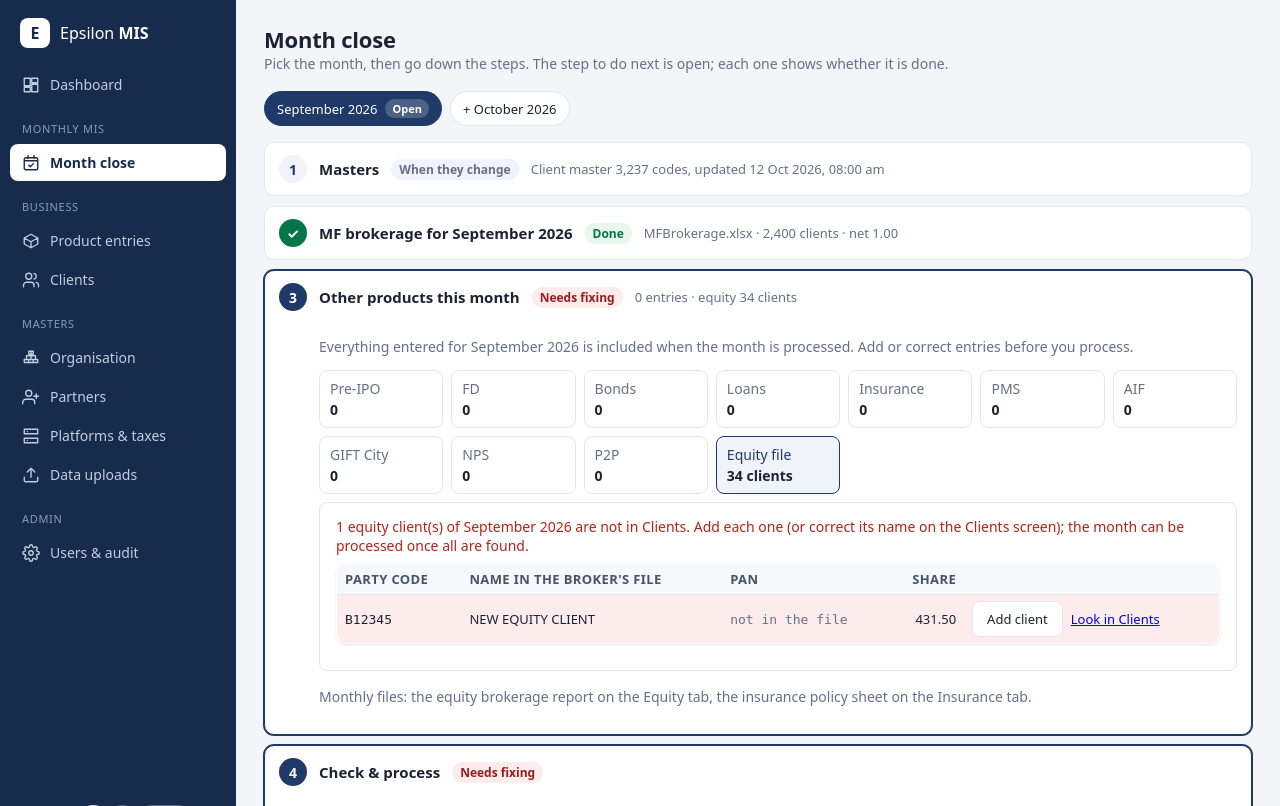
Scenario: this month › names the equity client that is not in Clients and adds it from there
Expected: the text "B12345" is shown, x1=336 y1=594 x2=461 y2=644
Expected: the text "NEW EQUITY CLIENT" is shown, x1=461 y1=594 x2=722 y2=644
Click the button "Add client". click: (1017, 619)
box: x1=972 y1=601 x2=1063 y2=637
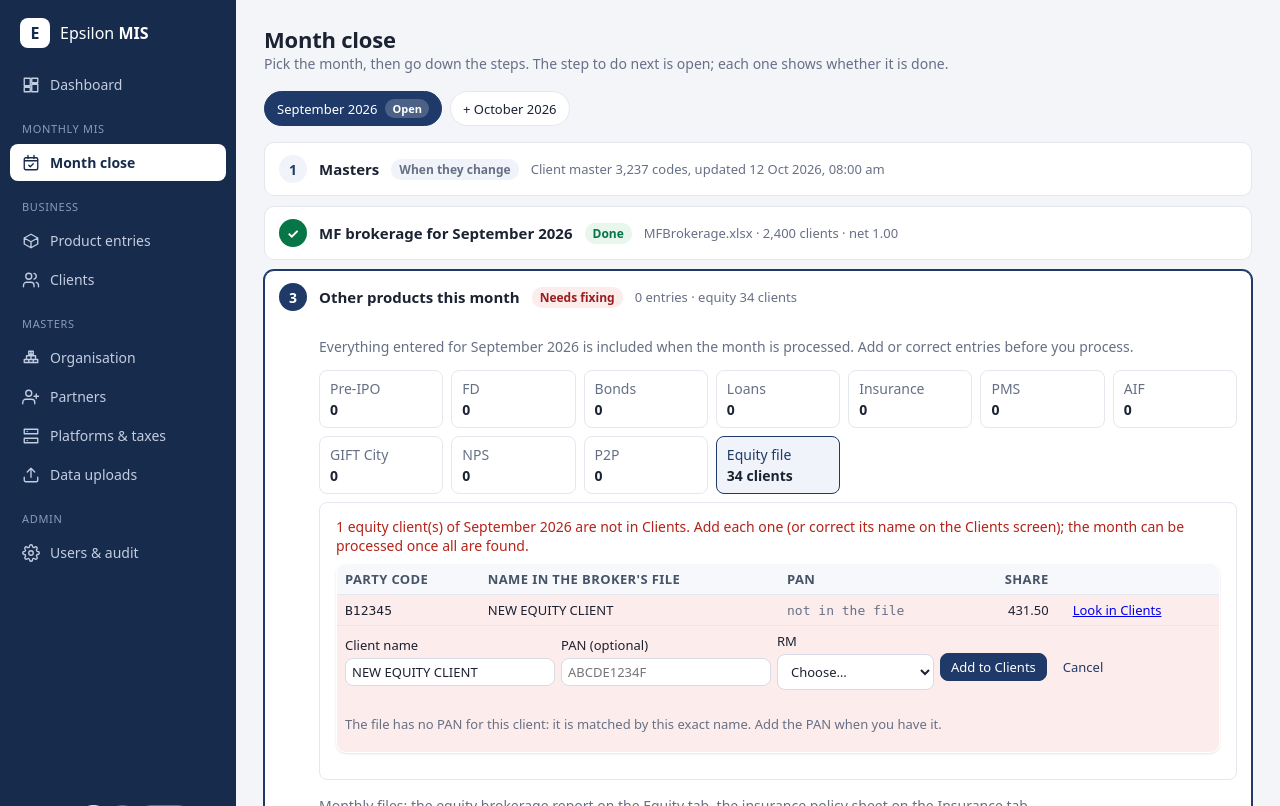
Result: the field labelled "Client name" holds "NEW EQUITY CLIENT" at x1=345 y1=658 x2=555 y2=686
Select "RM SEVEN — PUNE" in the dropdown labelled "RM". click: (856, 672)
box: x1=777 y1=654 x2=934 y2=690
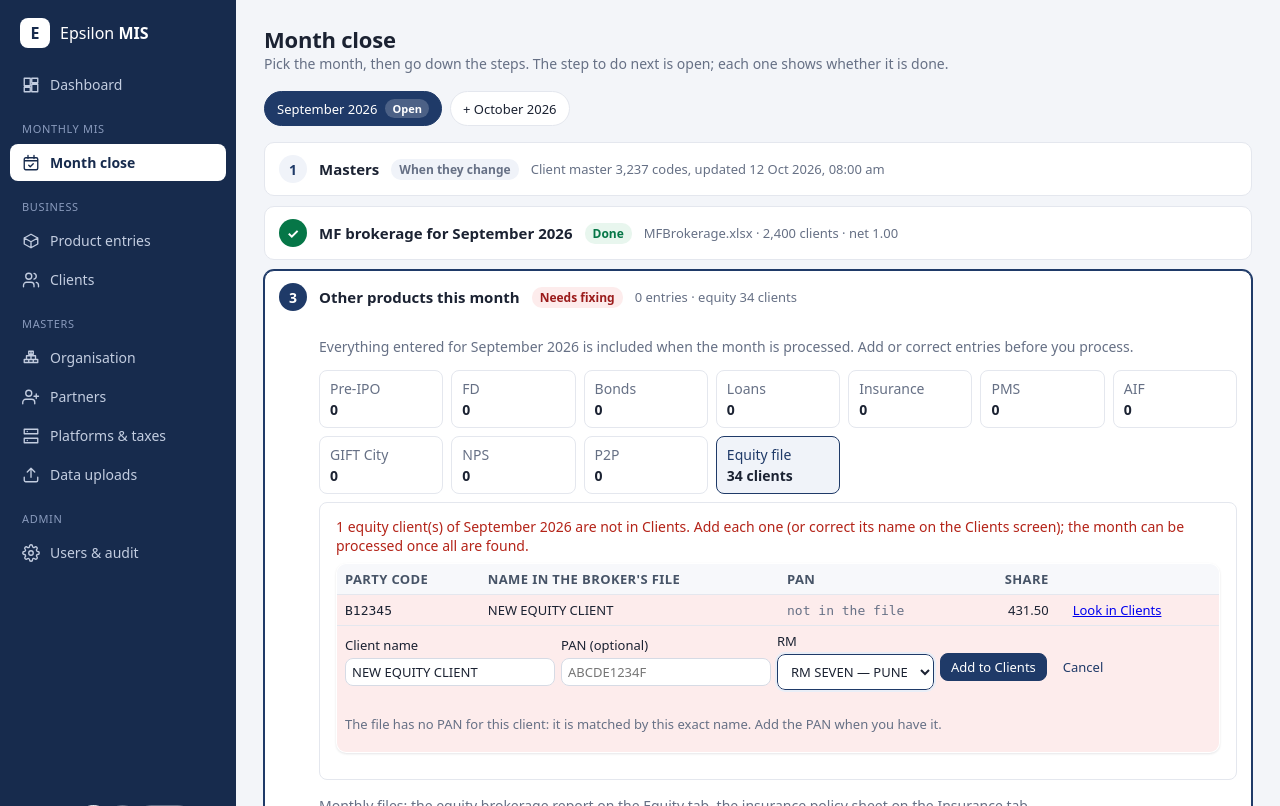
Click the button "Add to Clients". click: (993, 667)
box: x1=940 y1=653 x2=1047 y2=681
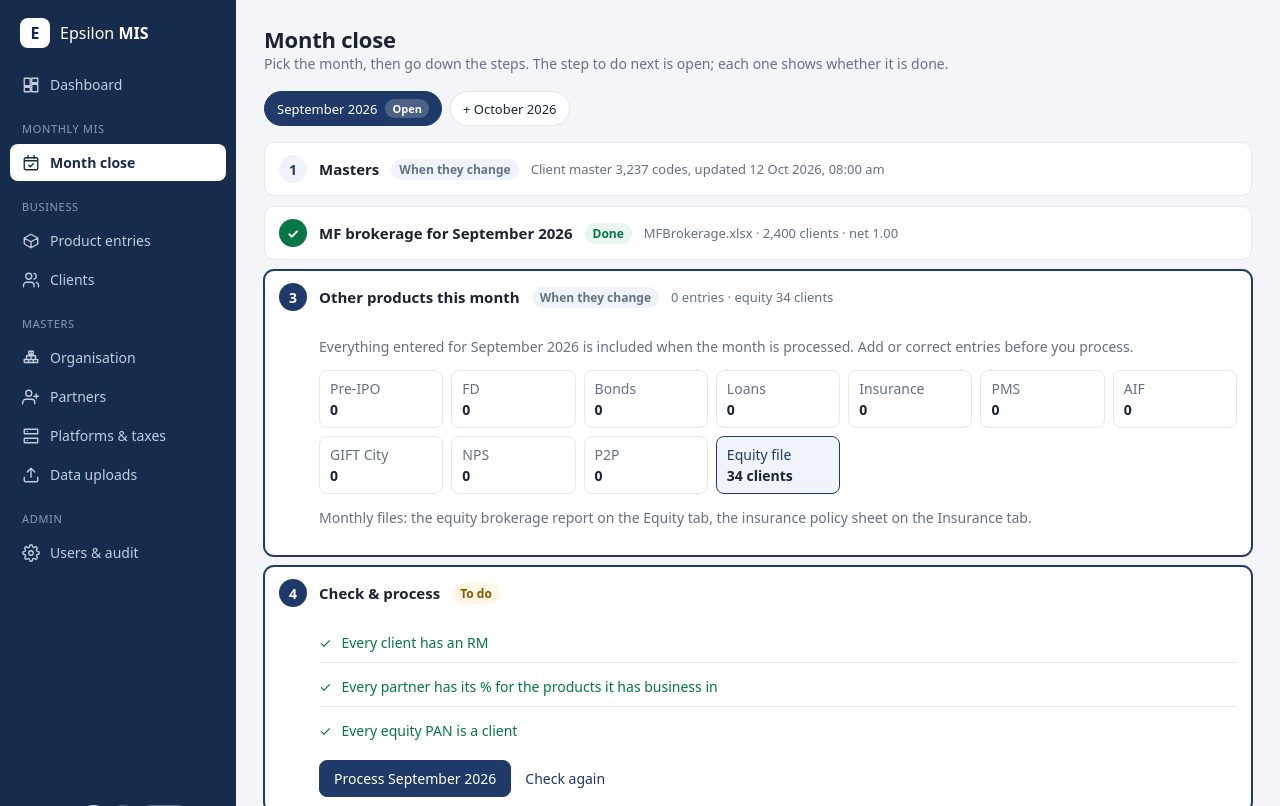
Result: the button "Process September 2026" is shown at x1=319 y1=760 x2=511 y2=797
